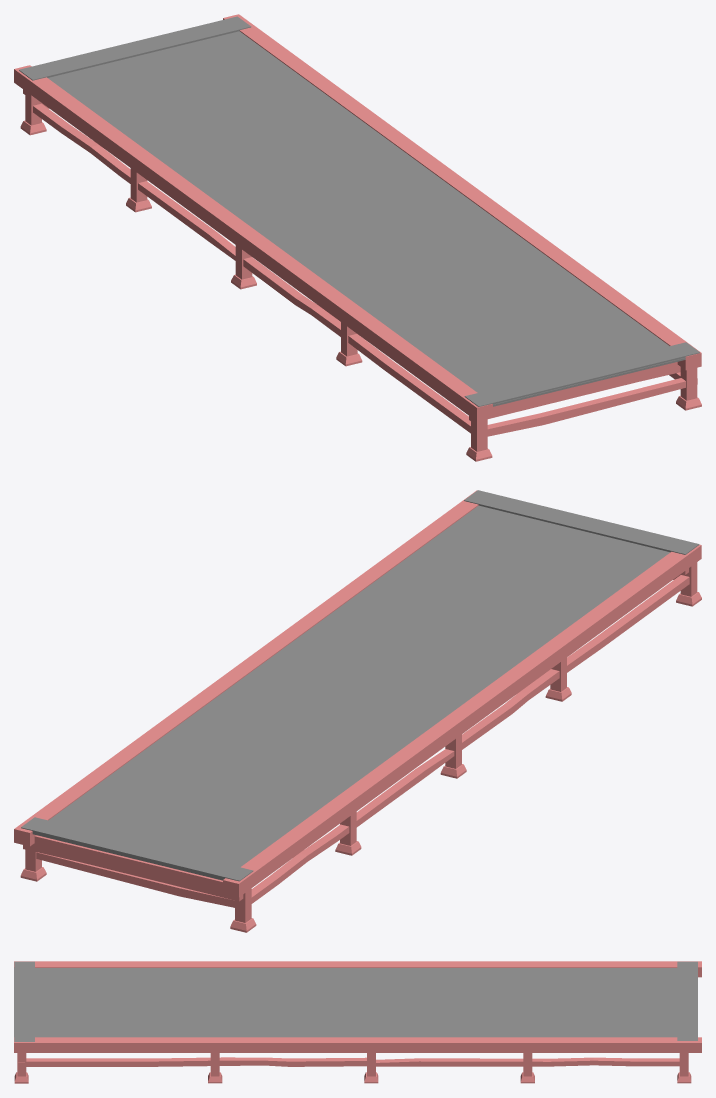
The model's file is S_Envi_Fyz_Building_88n.gltf.
3 renders of one model, top to bottom at view 1: azimuth 30°, elevation 25°; view 2: azimuth 150°, elevation 25°; view 3: azimuth 270°, elevation 25°, orthographic. The views are drawn at different scales.
Parts seen in each view (by area): view 1: S_Envi_Fyz_Building_88n; view 2: S_Envi_Fyz_Building_88n; view 3: S_Envi_Fyz_Building_88n.
Part boxes in pixels (x1,y1,x2,y2): S_Envi_Fyz_Building_88n: (14,14,701,461); S_Envi_Fyz_Building_88n: (14,490,701,932); S_Envi_Fyz_Building_88n: (14,961,701,1083).
Bounding box in the file's own units: 4.69 × 1.09 × 16.62.
